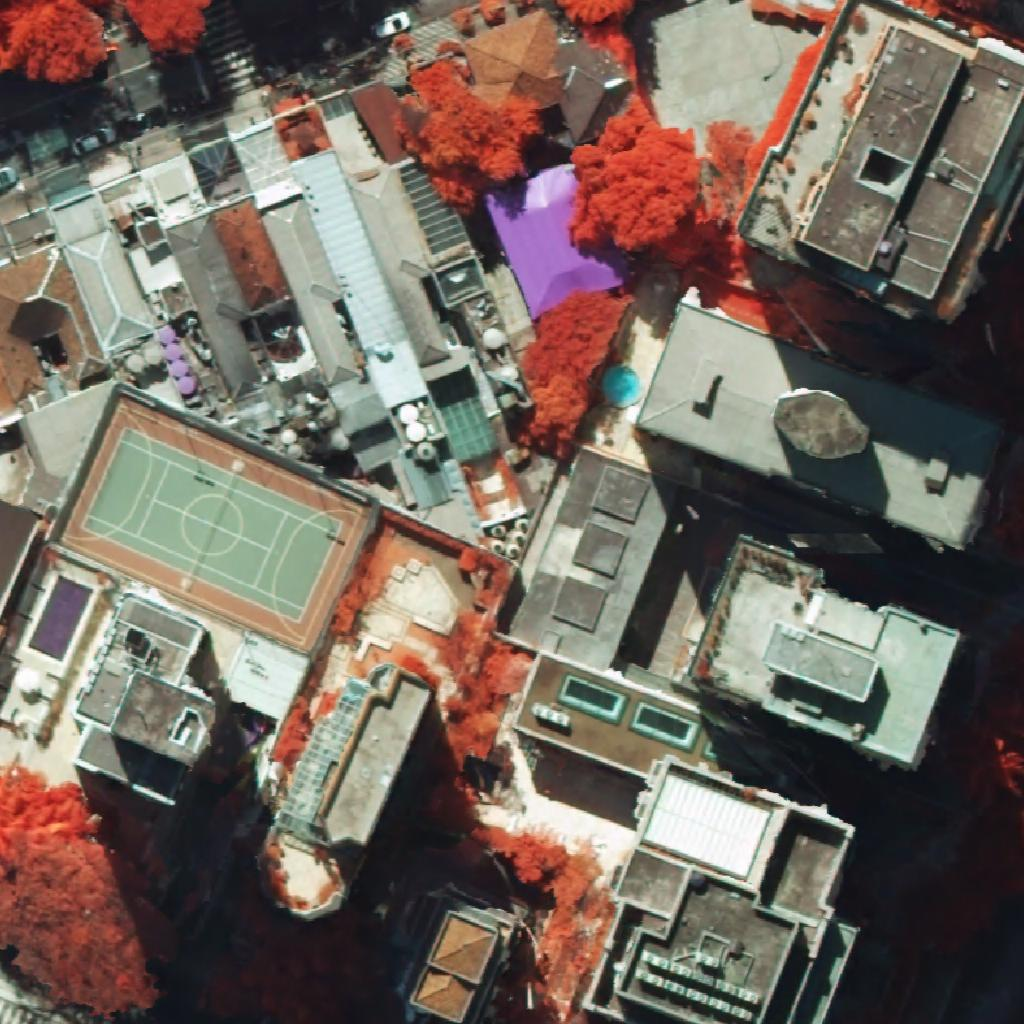pool: (28, 576, 93, 662), (604, 367, 639, 402)
